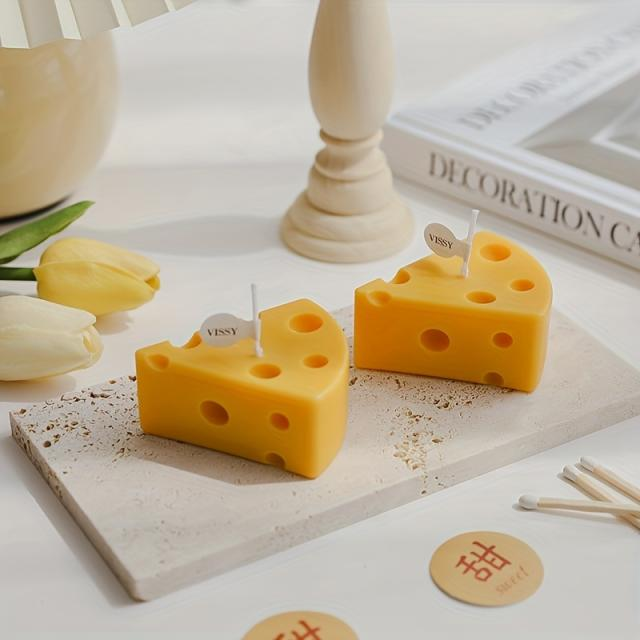Cheese: (350, 207, 560, 395), (142, 287, 350, 466)
